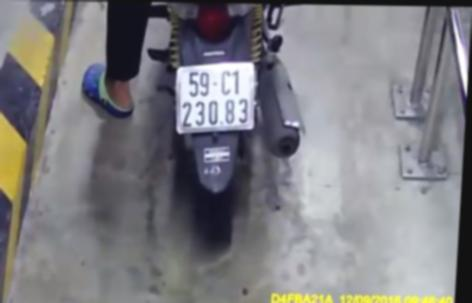License_Plate: (167, 61, 268, 137)
